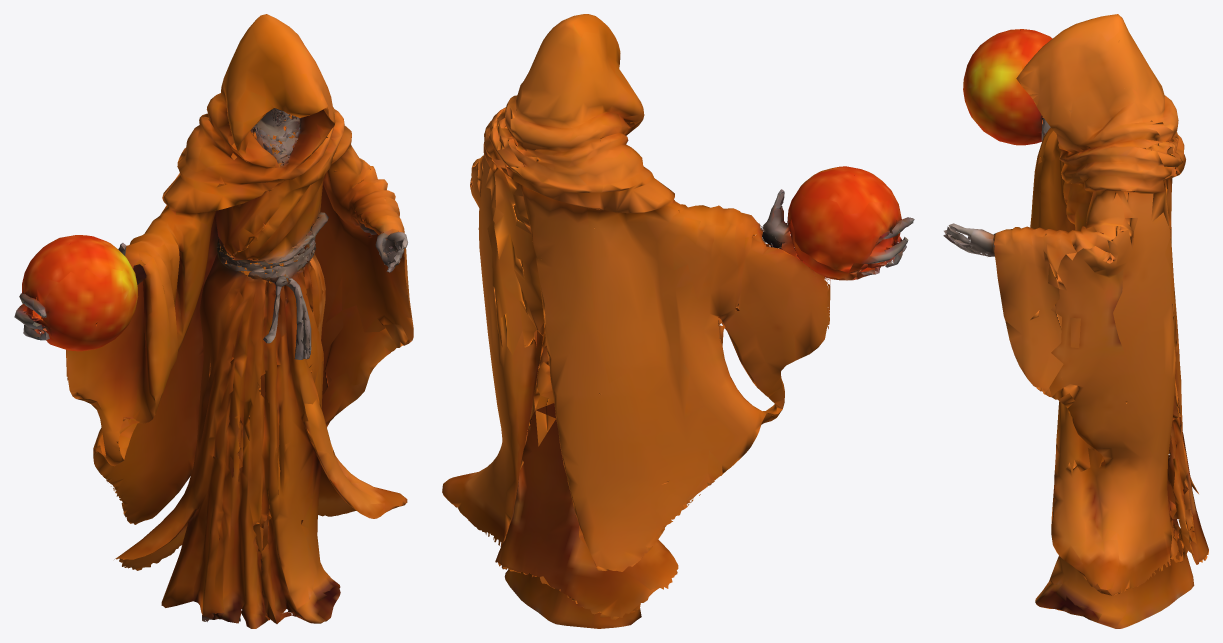
The model's file is fig_ash_cultist.glb.
3 renders of one model, left to right at view 1: azimuth 30°, elevation 25°; view 2: azimuth 150°, elevation 25°; view 3: azimuth 270°, elevation 25°, orthographic. The views are drawn at different scales.
Visible parts, largest first — view 1: fig_ash_cultist; view 2: fig_ash_cultist; view 3: fig_ash_cultist.
Boxes of the visible parts, x1,y1,x2,y2 form: fig_ash_cultist: (14, 14, 413, 628); fig_ash_cultist: (442, 14, 914, 628); fig_ash_cultist: (943, 14, 1208, 628).
Size of the model in its own units: 0.6873 by 0.8999 by 0.3728.
1 material, 1 textured.
